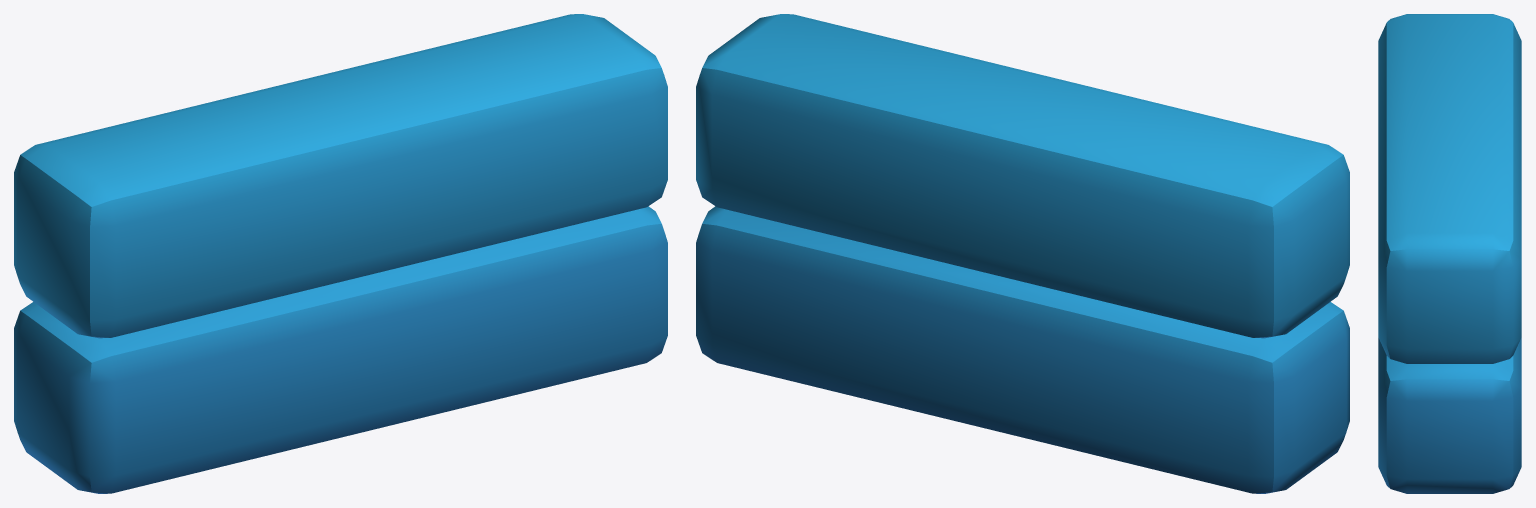
The model's file is barrier_4x1x2_blue.glb.
3 renders of one model, left to right at view 1: azimuth 30°, elevation 25°; view 2: azimuth 150°, elevation 25°; view 3: azimuth 270°, elevation 25°, orthographic. The views are drawn at different scales.
Parts seen in each view (by area): view 1: barrier_4x1x2_blue; view 2: barrier_4x1x2_blue; view 3: barrier_4x1x2_blue.
Boxes of the visible parts, bbox=[...] form: barrier_4x1x2_blue: bbox=[14, 14, 667, 493]; barrier_4x1x2_blue: bbox=[696, 14, 1349, 493]; barrier_4x1x2_blue: bbox=[1378, 14, 1521, 493].
Size of the model in its own units: 4 by 2 by 1.
1 material, 1 textured.
